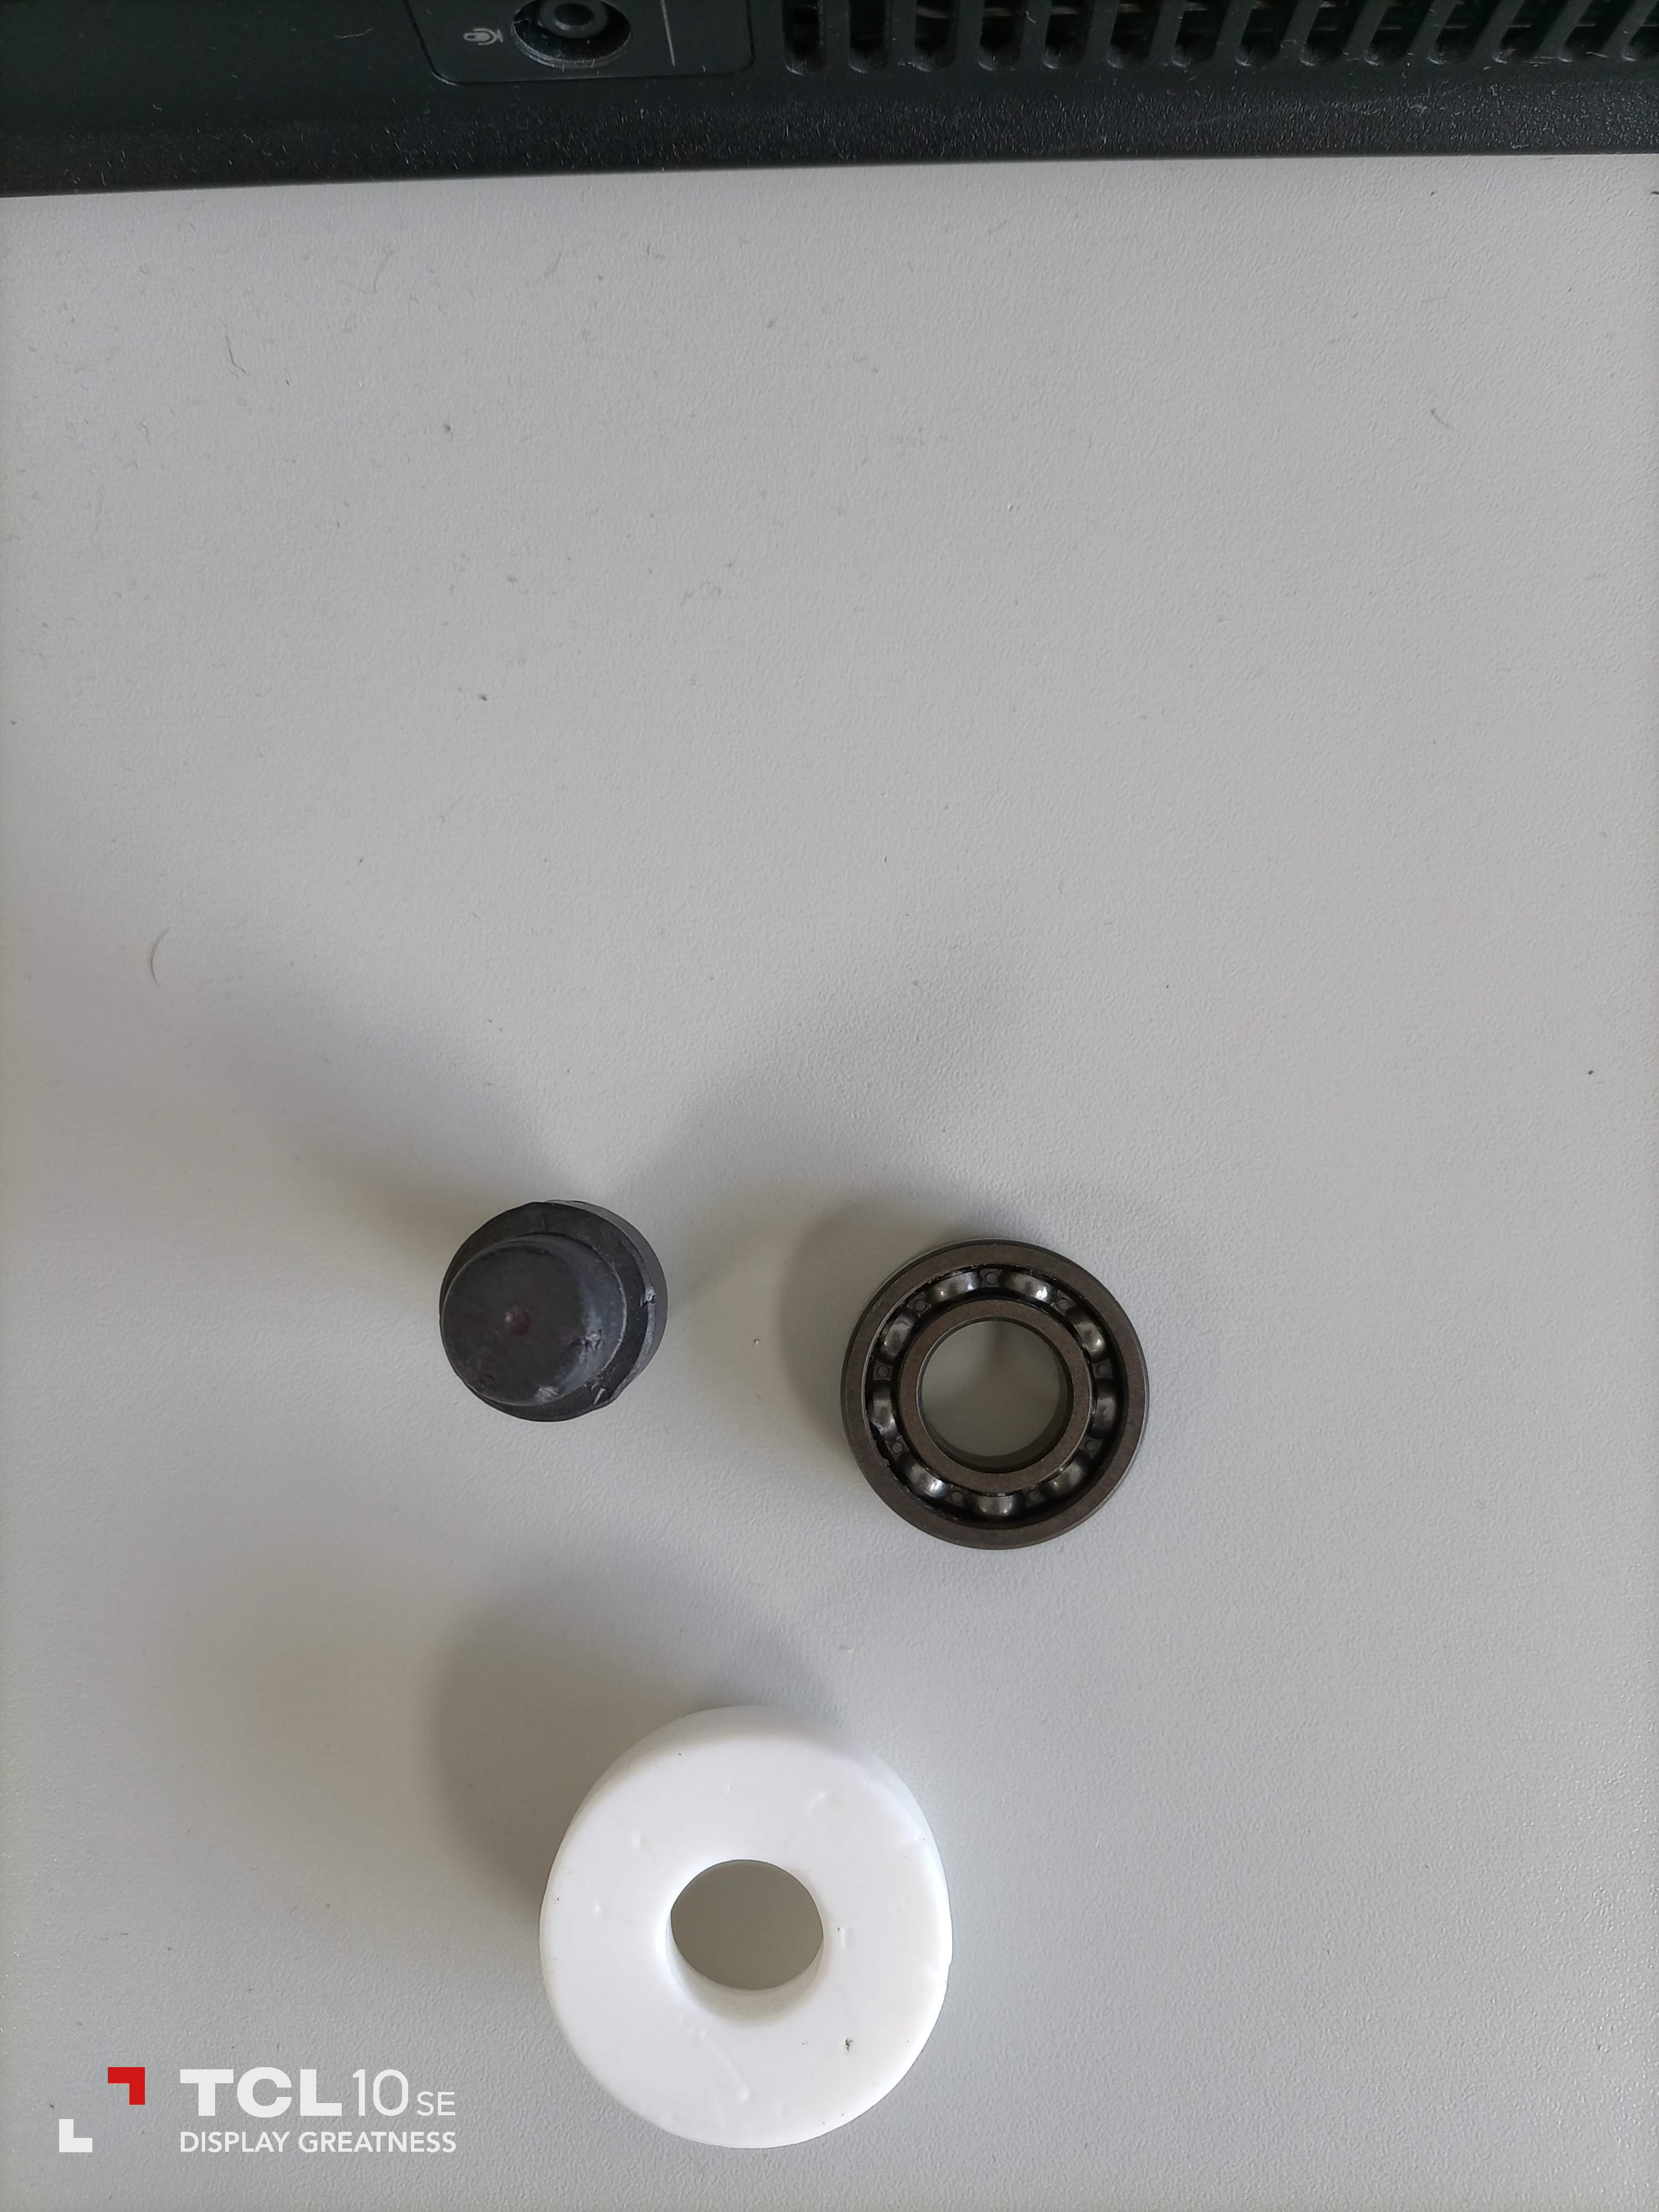Roda: (819, 1224, 1164, 1548), (443, 1209, 645, 1413)
Tapa: (516, 1707, 988, 2172)
